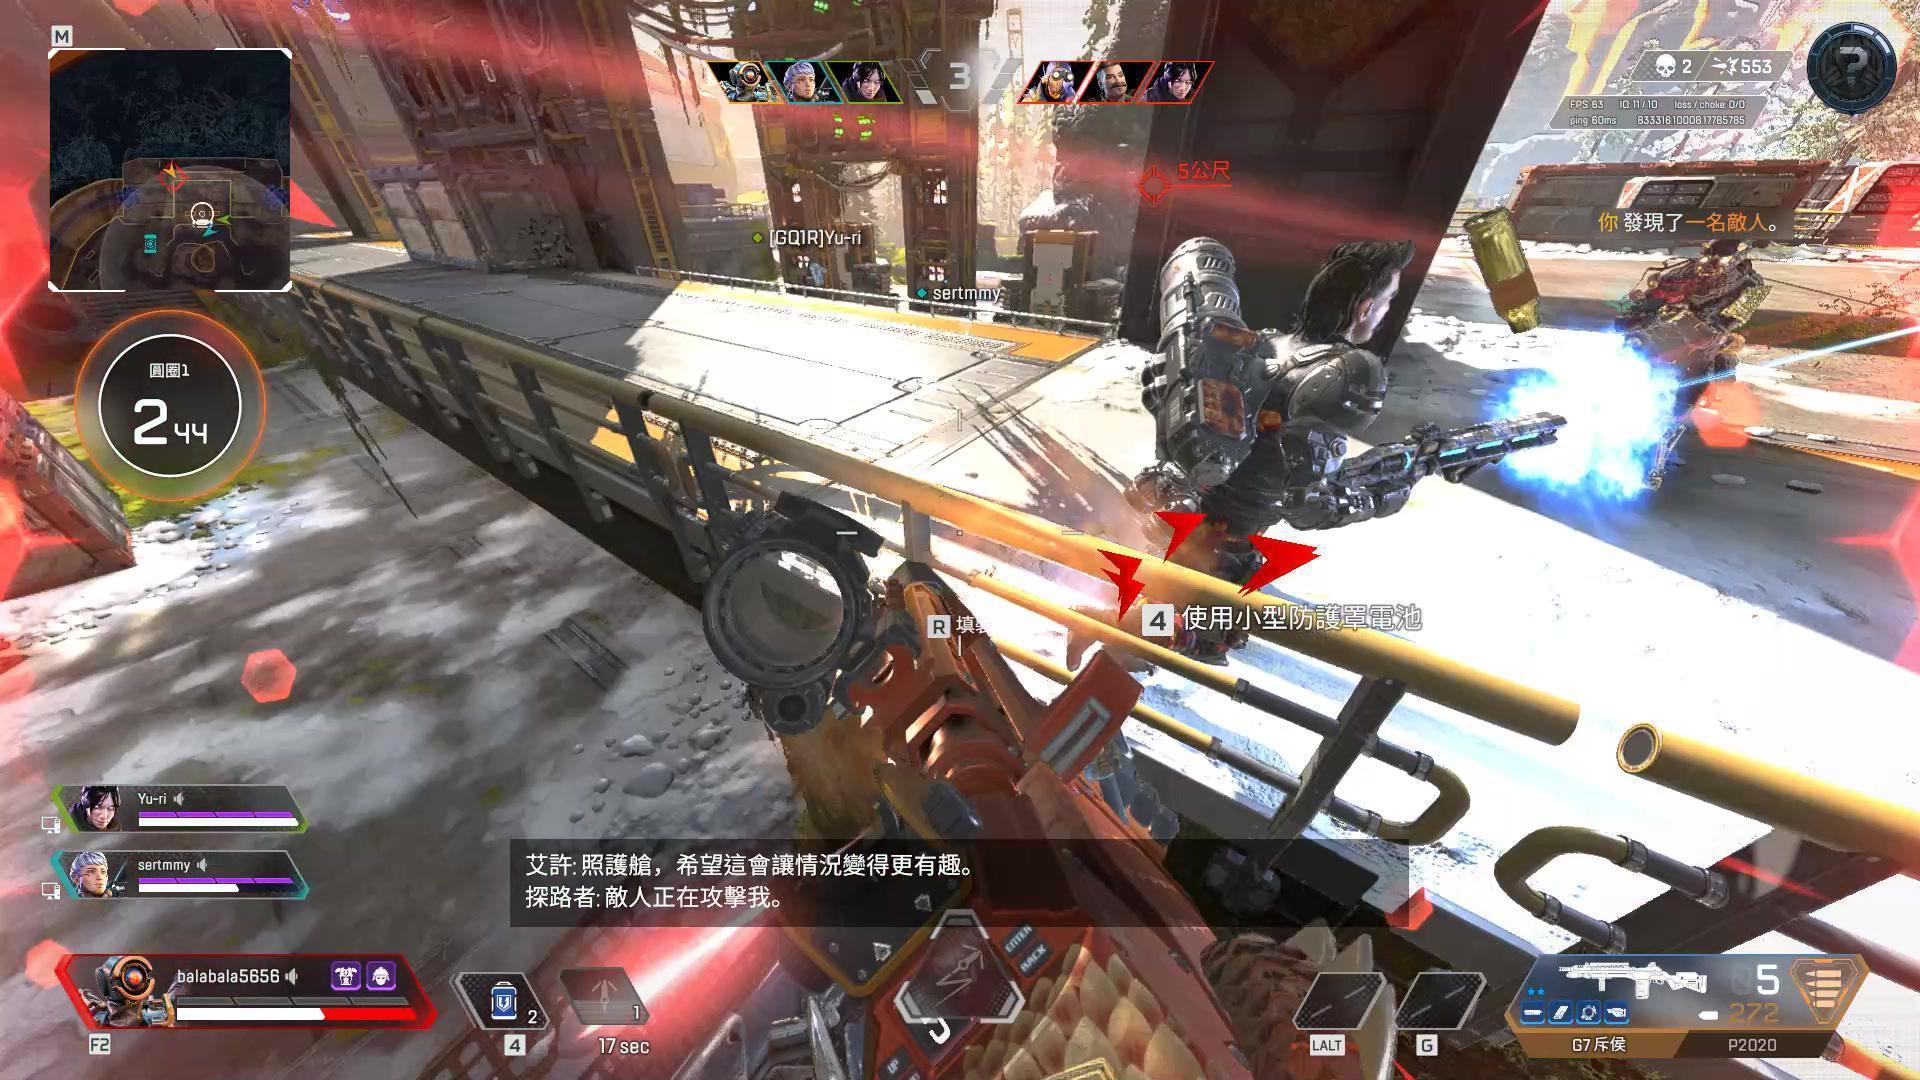avatar: (1133, 237, 1403, 580)
